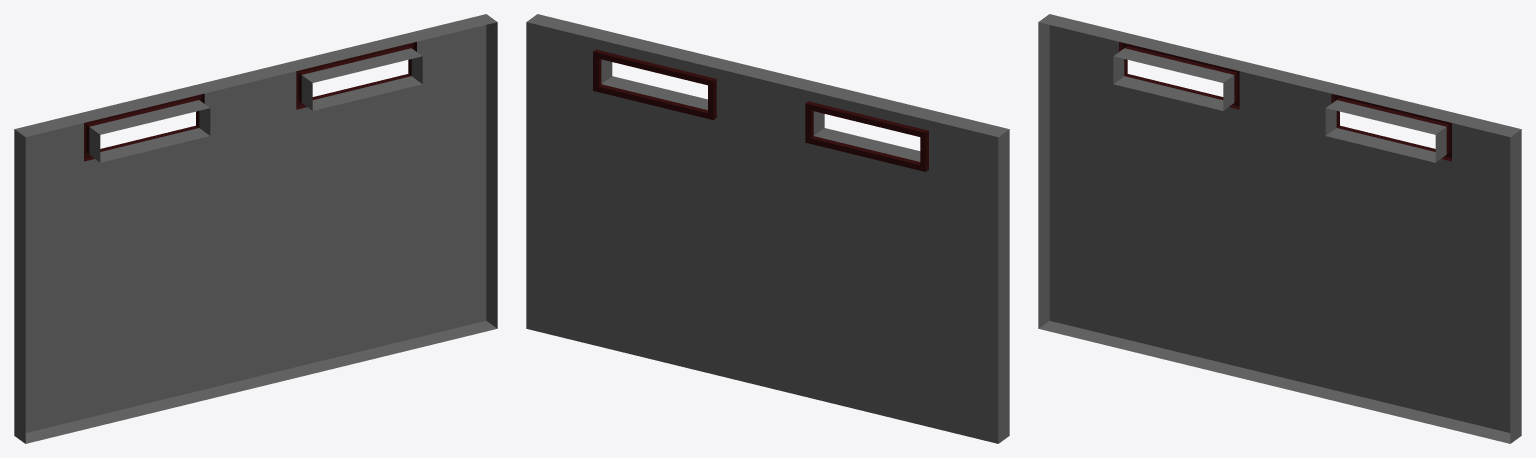
The model's file is WindowWallOBJ.dae.
3 views of the same model, side by side, from view 1: azimuth 30°, elevation 25°; view 2: azimuth 150°, elevation 25°; view 3: azimuth 330°, elevation 25° (orthographic).
Parts seen in each view (by area): view 1: pCube11; view 2: pCube11; view 3: pCube11.
Boxes of the visible parts, left/top/right/bottom form: pCube11: left=14, top=14, right=497, bottom=443; pCube11: left=526, top=14, right=1009, bottom=443; pCube11: left=1038, top=14, right=1521, bottom=443.
Size of the model in its own units: 800 by 497 by 41.83.
